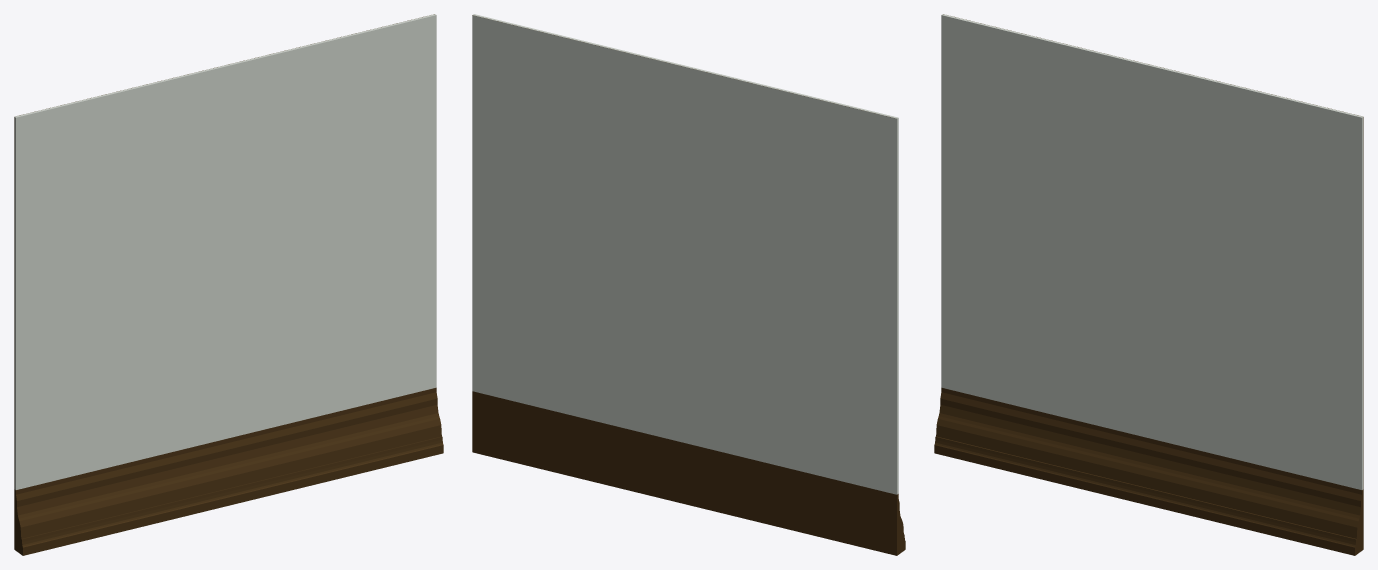
The model's file is Wall2.fbx.
3 renders of one model, left to right at view 1: azimuth 30°, elevation 25°; view 2: azimuth 150°, elevation 25°; view 3: azimuth 330°, elevation 25°, orthographic.
Visible parts, largest first — view 1: Cube; view 2: Cube; view 3: Cube.
Boxes of the visible parts, box(x1,y1,x2,y2) form: Cube: box(14, 14, 443, 555); Cube: box(472, 14, 905, 555); Cube: box(934, 14, 1363, 555).
Bounding box in the file's own units: 529 × 521 × 18.66.
